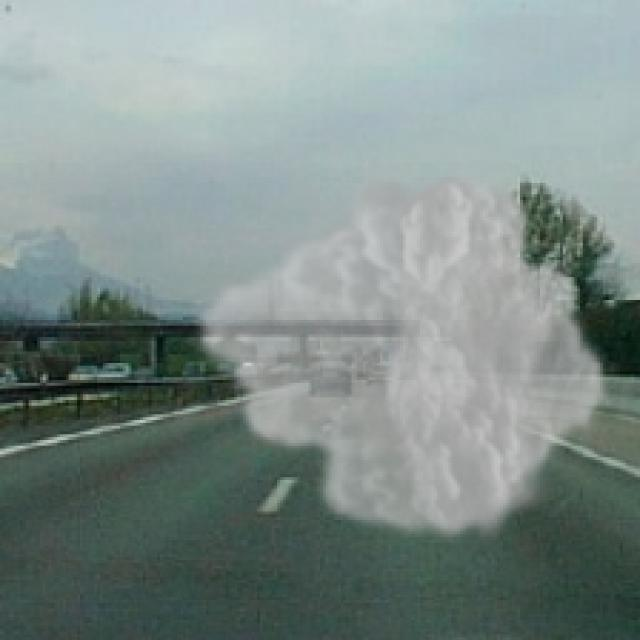smoke: (188, 163, 612, 548)
